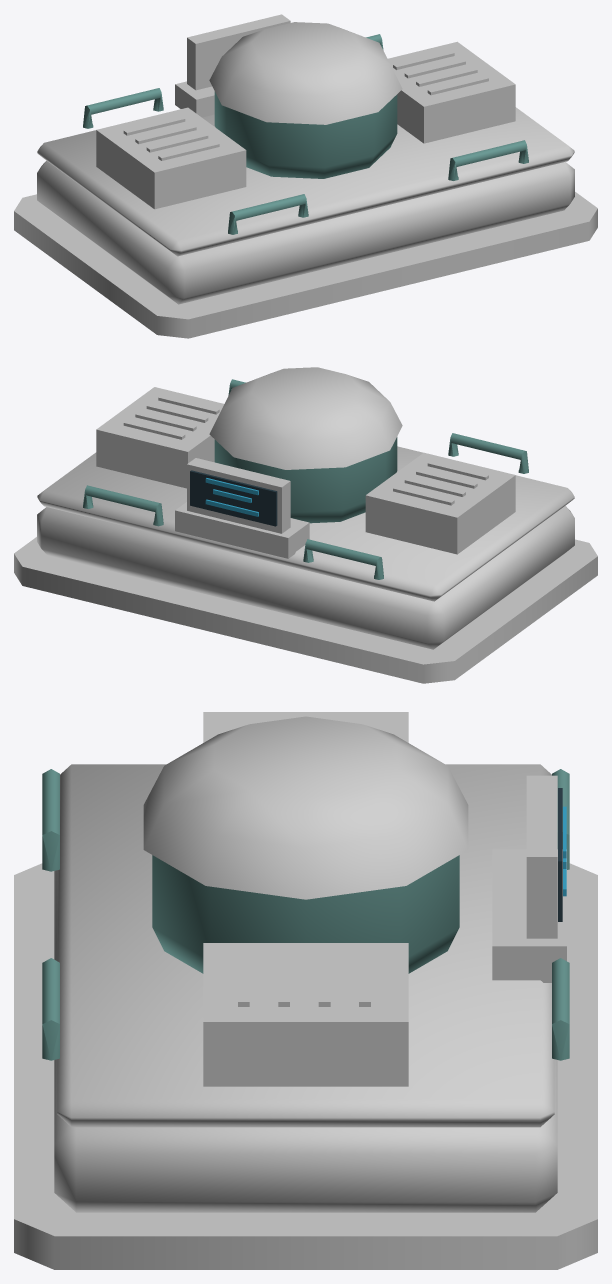
File: gene_assembler.obj
3 renders of one model, top to bottom at view 1: azimuth 30°, elevation 25°; view 2: azimuth 150°, elevation 25°; view 3: azimuth 270°, elevation 25°, orthographic. The views are drawn at different scales.
Visible parts, largest first — view 1: source_component_001, source_component_002, source_component_000, source_component_004, source_component_005, source_component_003, source_component_010, source_component_020, source_component_016, source_component_017, source_component_015, source_component_019; view 2: source_component_001, source_component_000, source_component_002, source_component_004, source_component_005, source_component_010, source_component_003, source_component_019, source_component_020, source_component_021, source_component_015, source_component_018 (+1 smaller); view 3: source_component_002, source_component_000, source_component_004, source_component_001, source_component_010, source_component_003, source_component_019, source_component_020, source_component_005, source_component_017, source_component_018, source_component_015 (+1 smaller).
Part boxes in pixels (x1,y1,x2,y2): source_component_001: (37,160,574,304); source_component_002: (37,107,574,256); source_component_000: (14,192,597,338); source_component_004: (209,22,402,124); source_component_005: (96,107,246,209); source_component_003: (214,91,397,178); source_component_010: (388,41,515,143); source_component_020: (187,14,290,90); source_component_016: (83,88,163,128); source_component_017: (448,140,528,180); source_component_015: (228,194,308,234); source_component_019: (175,81,214,117); source_component_001: (37,506,574,649); source_component_000: (14,537,597,683); source_component_002: (37,446,574,601); source_component_004: (209,367,402,469); source_component_005: (365,452,515,554); source_component_010: (96,387,224,488); source_component_003: (214,437,397,523); source_component_019: (175,502,309,558); source_component_020: (187,458,290,533); source_component_021: (190,470,277,526); source_component_015: (448,433,528,473); source_component_018: (83,485,163,526); source_component_002: (57,764,554,1127); source_component_000: (14,863,597,1269); source_component_004: (143,716,468,899); source_component_001: (54,870,557,1212); source_component_010: (203,943,408,1086); source_component_003: (152,855,459,973); source_component_019: (492,849,566,982); source_component_020: (526,775,557,938); source_component_005: (203,712,408,742); source_component_017: (42,958,59,1060); source_component_018: (552,958,569,1060); source_component_015: (42,769,59,871).
Bounding box in the file's own units: 2.88 × 1.15 × 1.88.
